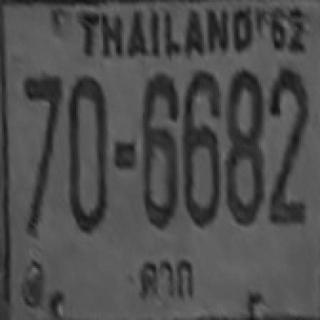N00: (183, 125, 219, 226), (226, 68, 262, 142)
N02: (268, 140, 304, 221)
N07: (24, 74, 62, 157)
P69: (132, 253, 200, 302)
